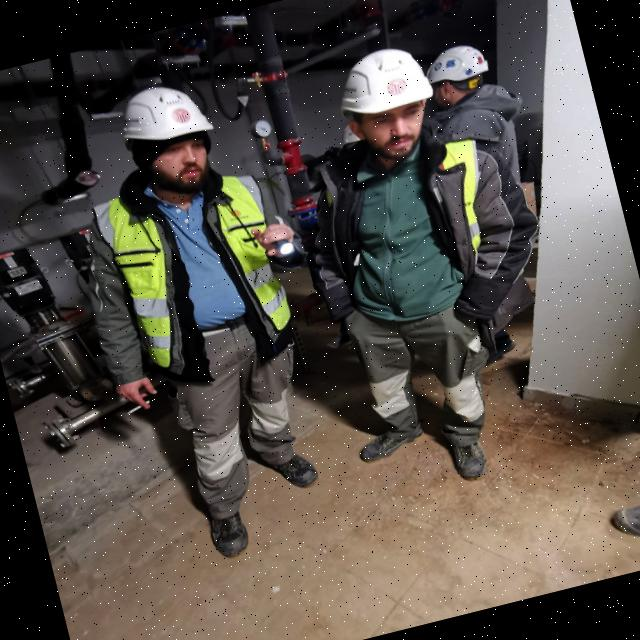Helmet: (325, 40, 451, 176), (110, 76, 232, 208), (420, 40, 505, 114)
